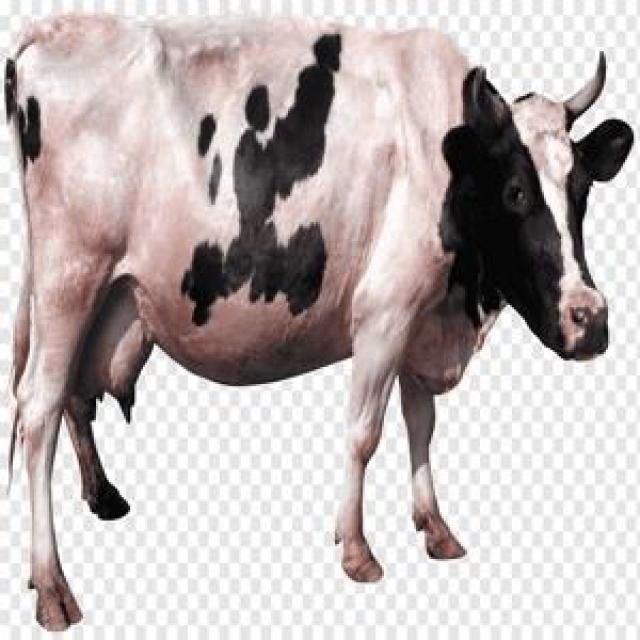cow: (5, 16, 632, 629)
